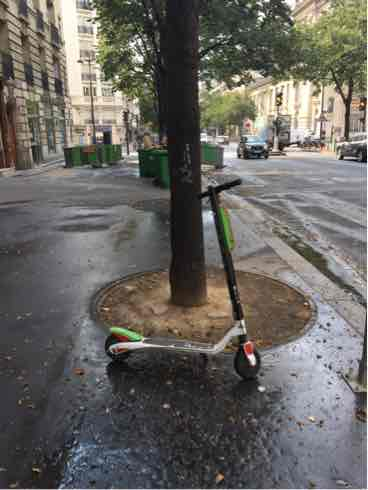scooter: (101, 173, 259, 380)
